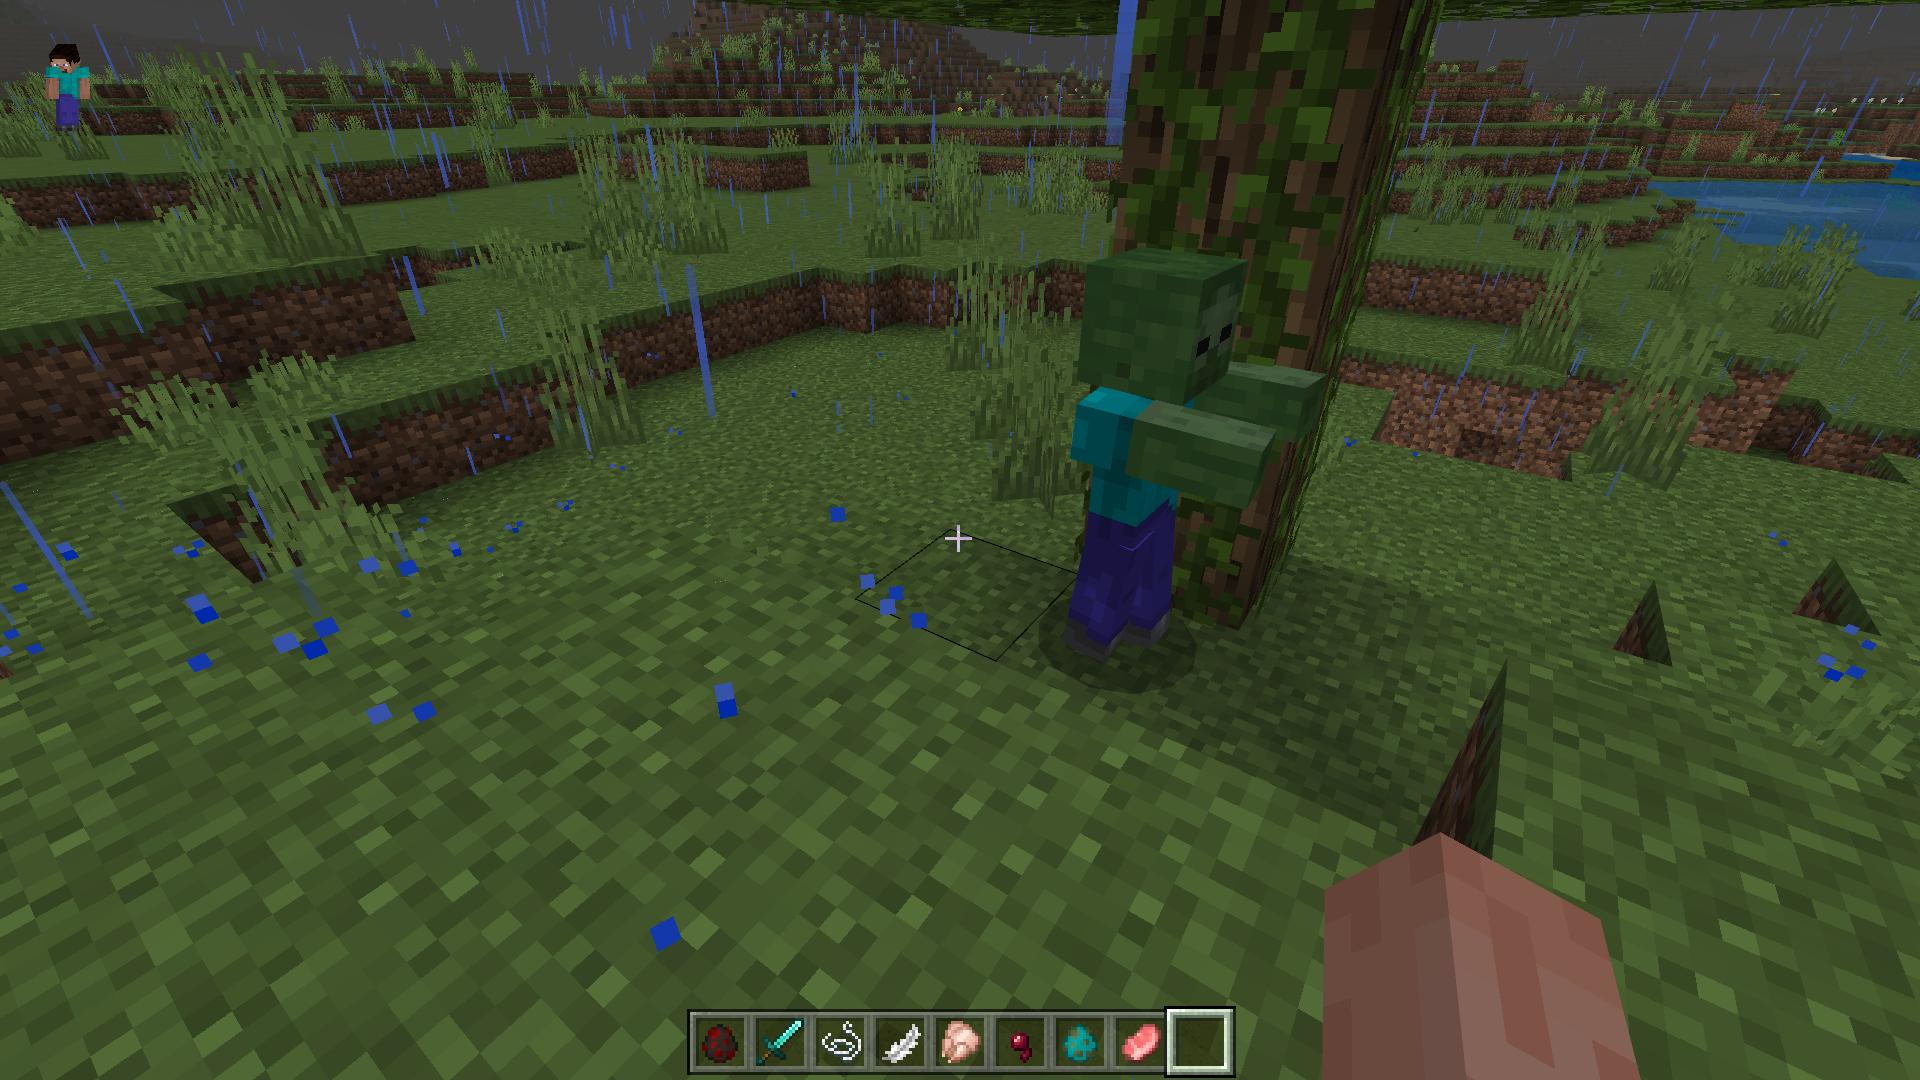zombie: (1063, 240, 1327, 662)
